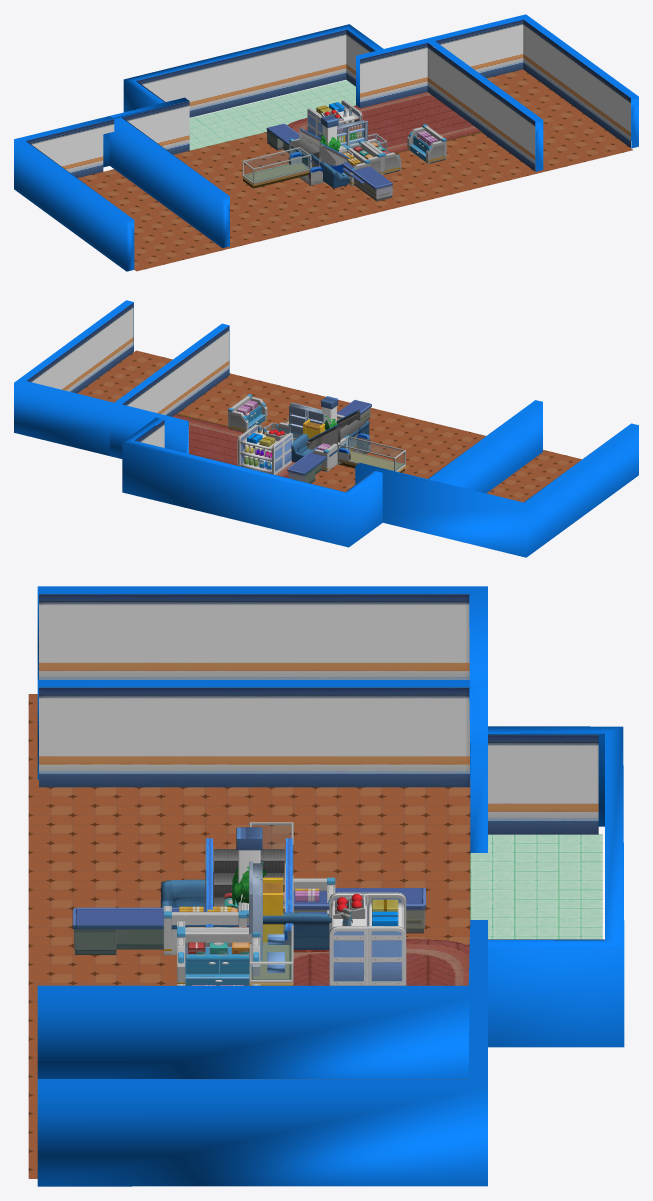
The picture shows the model from 3 angles, top to bottom: view 1: azimuth 30°, elevation 25°; view 2: azimuth 150°, elevation 25°; view 3: azimuth 270°, elevation 25°; orthographic projection. The views are drawn at different scales.
Visible parts, largest first — view 1: SM_RO_006_Wall_01_0 (×2), Plane001 (×2), SM_RO_006_Wall_01_1 (×2), Plane002 (×2), SM_C_001_Mat_06_0, SM_RO_072_Counter_03_0 (×2), SM_RO_072_Showcase_02_1, SM_RO_005_Escalator_05, SM_RO_072_Bookshelf_02_0, SM_RO_006_CoolCase_01_0, SM_RO_072_Bookshelf_01, SM_RO_006_Showcase_01 (+4 smaller); view 2: SM_RO_006_Wall_01_1 (×2), Plane001 (×2), SM_RO_006_Wall_01_0 (×2), SM_C_001_Mat_06_0, SM_RO_006_Showcase_01, SM_RO_072_Bookshelf_02_0 (×2), SM_RO_072_Counter_03_0 (×2), SM_RO_072_Showcase_02_1, SM_RO_005_Escalator_05, SM_RO_006_CoolCase_01_0, SM_RO_005_Escalator_04_0, SM_RO_006_Showcase_02 (+1 smaller); view 3: SM_RO_006_Wall_01_1 (×2), SM_RO_006_Wall_01_0 (×2), Plane001 (×2), Plane002 (×2), SM_RO_072_Counter_03_0 (×2), SM_RO_072_Bookshelf_01, SM_C_001_Mat_06_0, SM_RO_006_Showcase_01, SM_RO_005_Escalator_05, SM_C_001_Chair_09_0 (×2), SM_RO_006_Showcase_02, SM_RO_072_Showcase_02_1 (+3 smaller).
Part boxes in pixels (box(x1,y1,x2,y2)): SM_RO_006_Wall_01_0 (×2): box(26, 19, 630, 201); Plane001 (×2): box(77, 69, 633, 271); SM_RO_006_Wall_01_1 (×2): box(14, 14, 638, 271); Plane002 (×2): box(189, 80, 355, 150); SM_C_001_Mat_06_0: box(287, 92, 482, 153); SM_RO_072_Counter_03_0 (×2): box(266, 123, 392, 201); SM_RO_072_Showcase_02_1: box(242, 147, 310, 188); SM_RO_005_Escalator_05: box(292, 128, 354, 173); SM_RO_072_Bookshelf_02_0: box(407, 124, 446, 163); SM_RO_006_CoolCase_01_0: box(337, 120, 367, 146); SM_RO_072_Bookshelf_01: box(362, 138, 401, 174); SM_RO_006_Showcase_01: box(307, 100, 352, 135); SM_RO_006_Wall_01_1 (×2): box(14, 300, 638, 557); Plane001 (×2): box(77, 350, 581, 502); SM_RO_006_Wall_01_0 (×2): box(26, 302, 605, 502); SM_C_001_Mat_06_0: box(172, 413, 294, 477); SM_RO_006_Showcase_01: box(237, 430, 283, 474); SM_RO_072_Bookshelf_02_0 (×2): box(228, 394, 347, 471); SM_RO_072_Counter_03_0 (×2): box(287, 400, 371, 483); SM_RO_072_Showcase_02_1: box(337, 436, 405, 472); SM_RO_005_Escalator_05: box(306, 409, 366, 449); SM_RO_006_CoolCase_01_0: box(289, 402, 325, 434); SM_RO_005_Escalator_04_0: box(337, 433, 370, 464); SM_RO_006_Showcase_02: box(247, 424, 292, 467); SM_RO_006_Wall_01_1 (×2): box(37, 586, 624, 1186); SM_RO_006_Wall_01_0 (×2): box(39, 594, 604, 1079); Plane001 (×2): box(28, 694, 470, 1178); Plane002 (×2): box(470, 834, 602, 939); SM_RO_072_Counter_03_0 (×2): box(72, 888, 425, 954); SM_RO_072_Bookshelf_01: box(177, 930, 260, 985); SM_C_001_Mat_06_0: box(293, 939, 469, 985); SM_RO_006_Showcase_01: box(368, 892, 406, 985); SM_RO_005_Escalator_05: box(205, 838, 293, 944); SM_C_001_Chair_09_0 (×2): box(160, 879, 331, 949); SM_RO_006_Showcase_02: box(329, 892, 367, 985); SM_RO_072_Showcase_02_1: box(249, 906, 293, 985).
Size of the model in its own units: 26.8 by 4.44 by 13.49.
25 materials, 24 textured.
